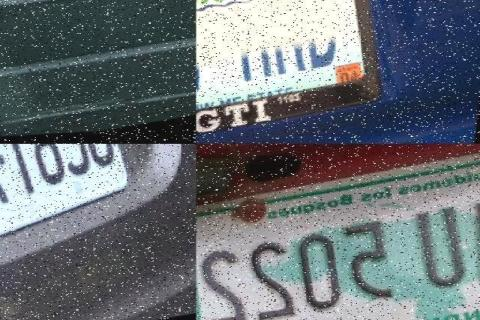LicensePlate: (196, 180, 480, 320), (197, 0, 363, 110), (0, 143, 135, 242), (27, 0, 125, 34)
